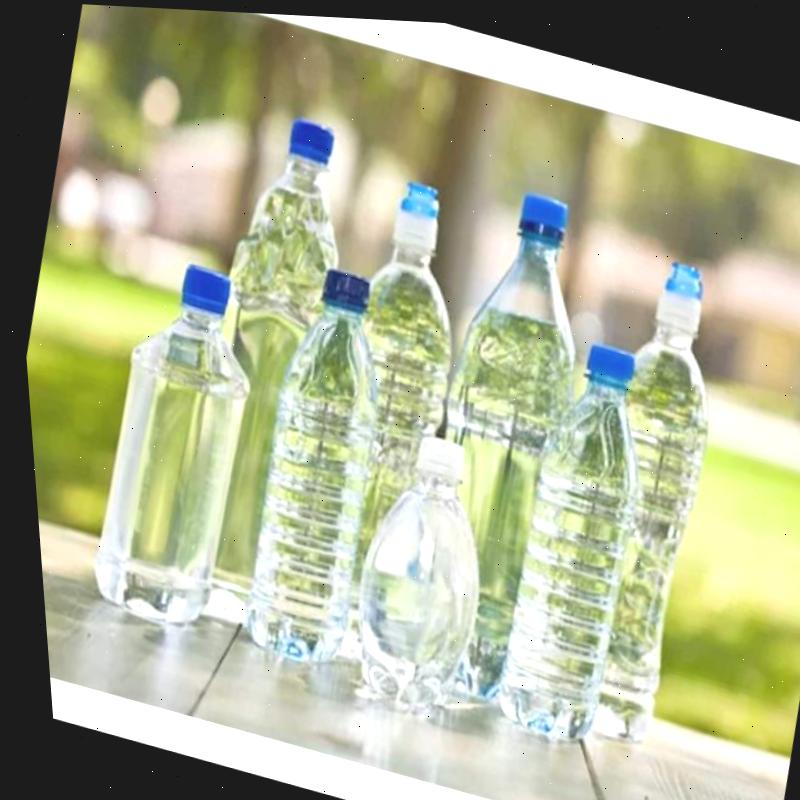botella: (366, 169, 627, 709), (136, 97, 386, 637), (270, 165, 502, 683), (535, 240, 755, 750), (461, 323, 674, 748), (59, 246, 282, 637), (208, 254, 417, 671), (316, 415, 513, 725)
